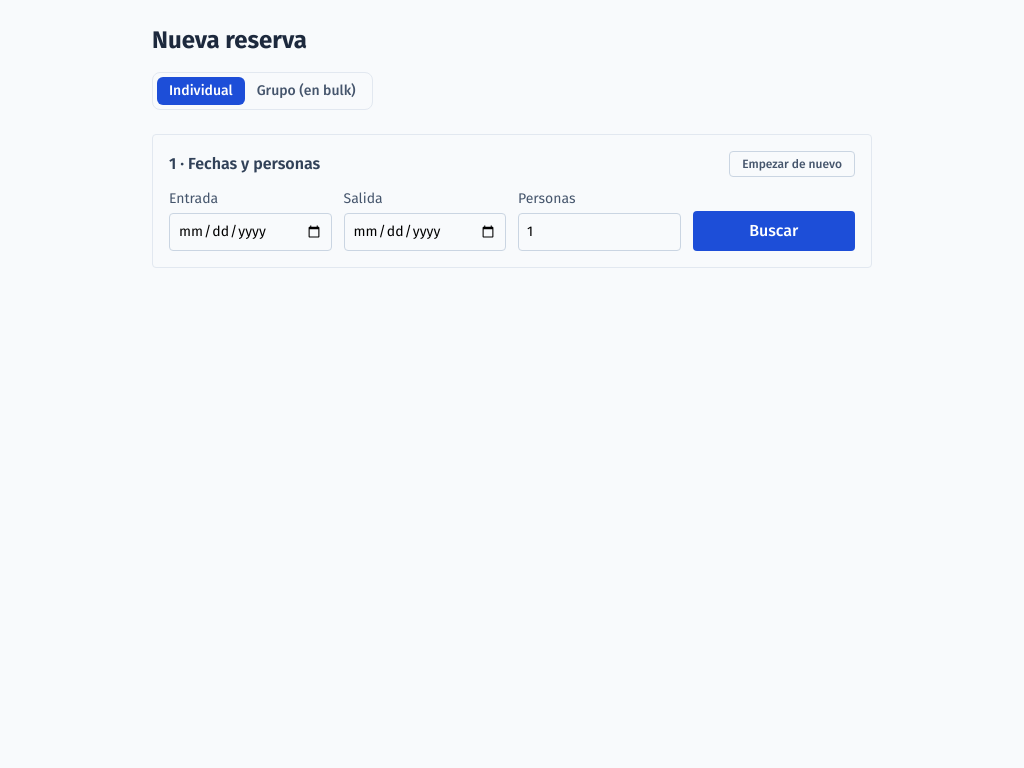
Scenario: NewReservationForm — modalidad de pago (R9.1, R9.2, decisión #339) › muestra el selector de modalidad de pago para role=reception_admin
In the date field labelled "Entrada": (250, 232) [169, 213, 332, 251], type "2026-10-01"
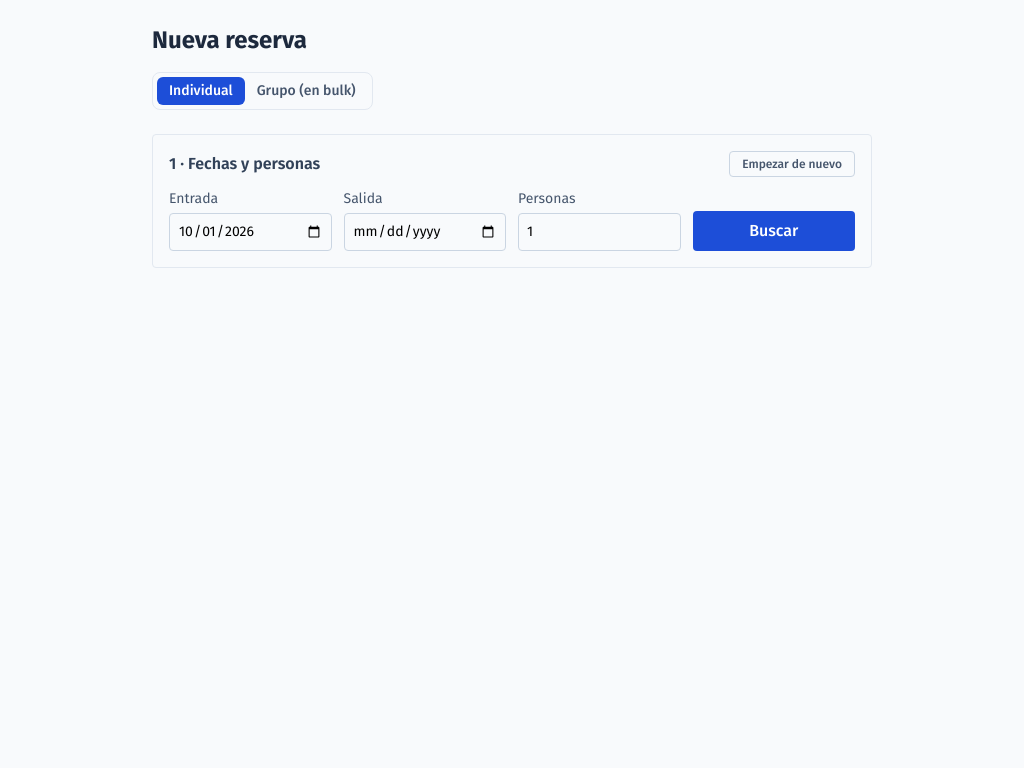
In the date field labelled "Salida": (425, 232) [344, 213, 506, 251], type "2026-10-03"
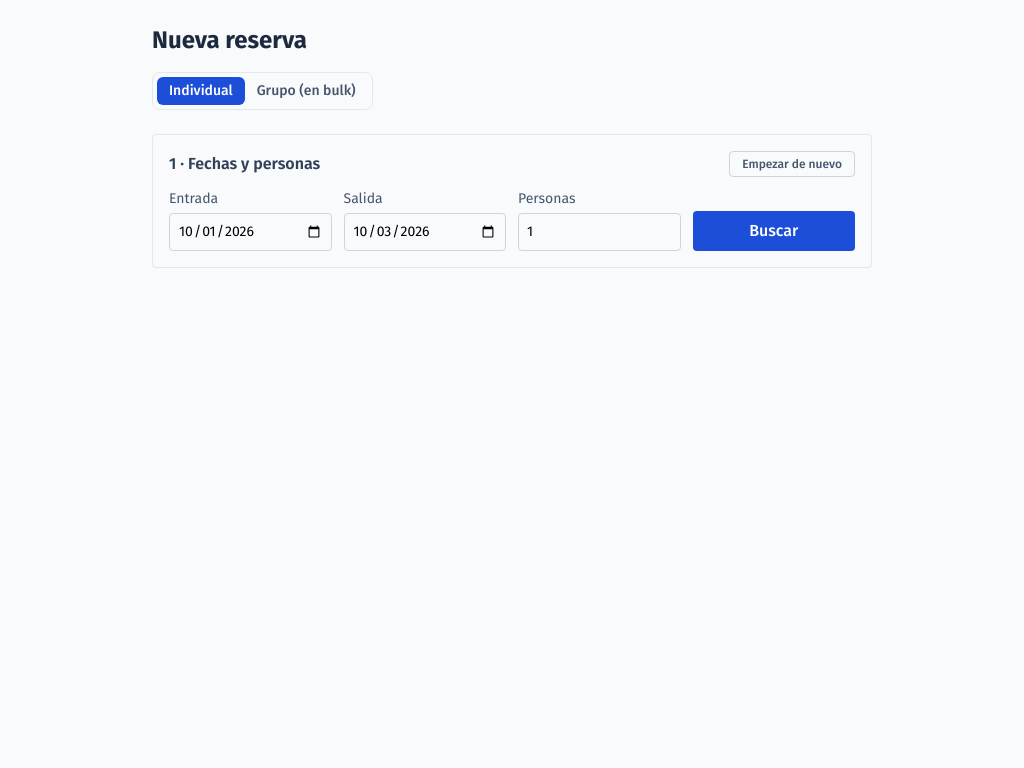
Click the button "Buscar": (774, 231) [692, 211, 855, 251]
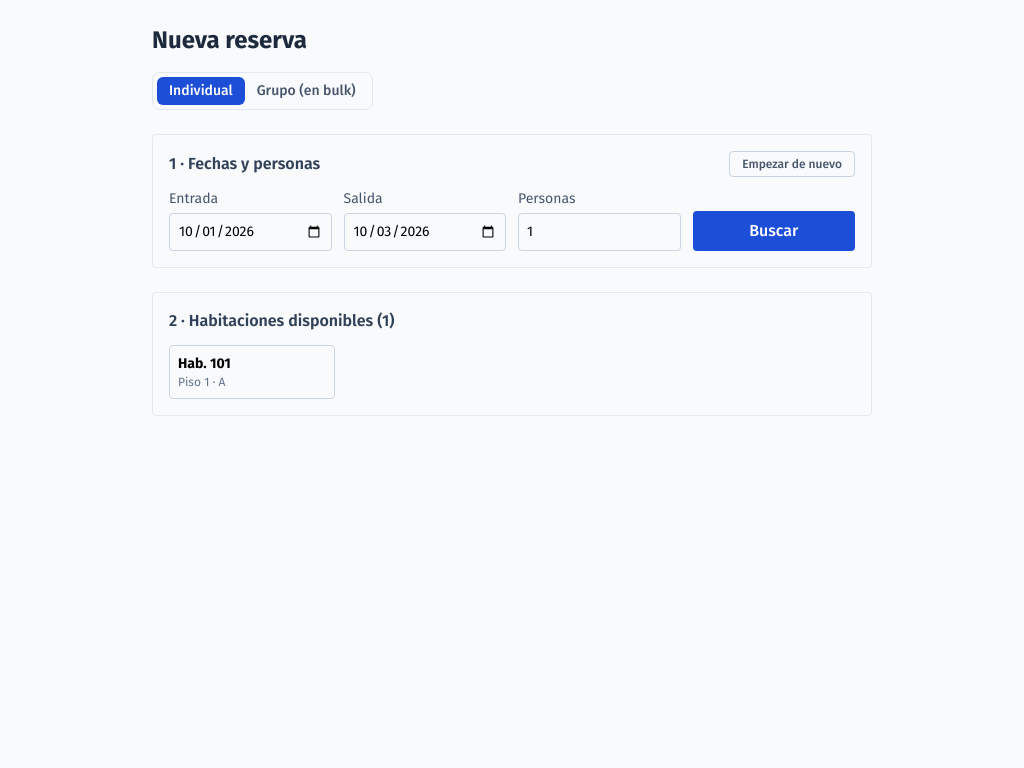
expect the text "Hab. 101" is shown: met, box [178, 355, 231, 372]
Click the button "Hab. 101 Piso 1 · A": (252, 372) [169, 345, 334, 399]
(page scrolled)
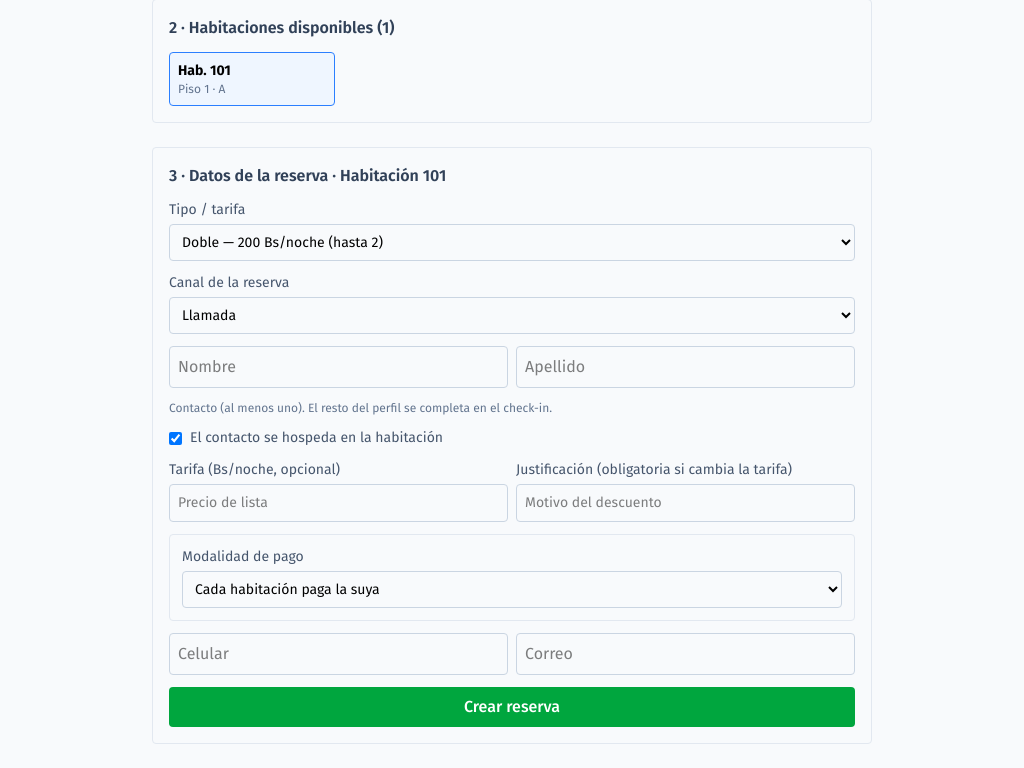
expect the heading "3 · Datos de la reserva · Habitación 101" is shown: met, box [169, 166, 446, 185]
expect the dropdown labelled "Modalidad de pago" is shown: met, box [182, 571, 842, 608]
